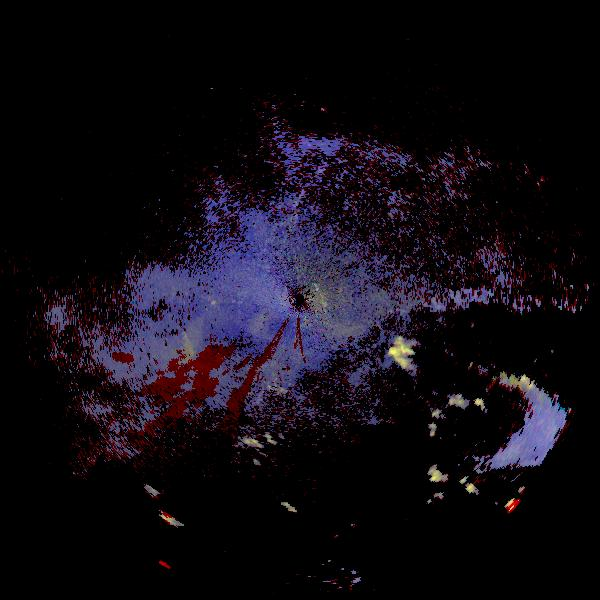roost: (123, 316, 213, 406)
